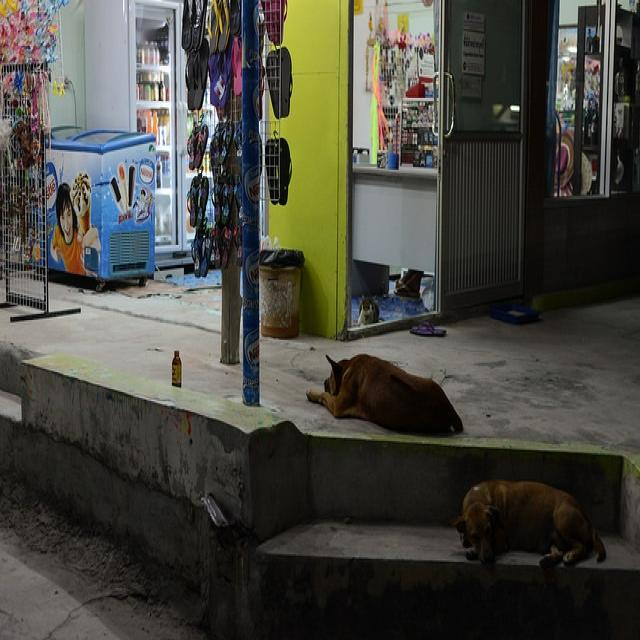Dog: (455, 438, 613, 624), (319, 300, 451, 463)
